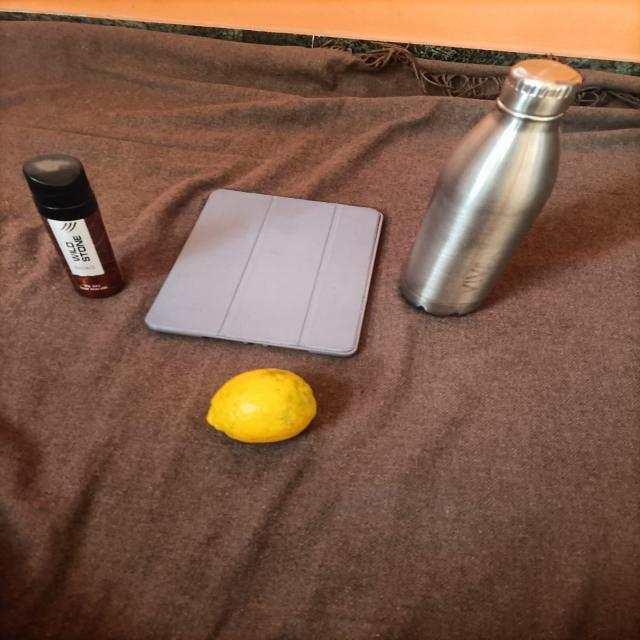bottle: (393, 11, 591, 360)
orange: (190, 364, 325, 456)
spray: (15, 151, 133, 314)
tablet: (141, 154, 389, 361)
